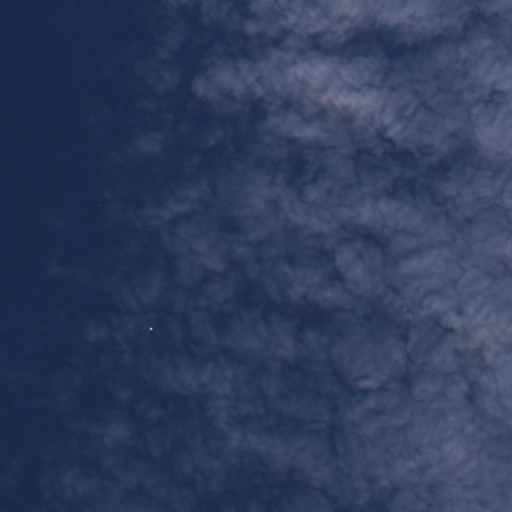Iceberg: (149, 327, 152, 330)
